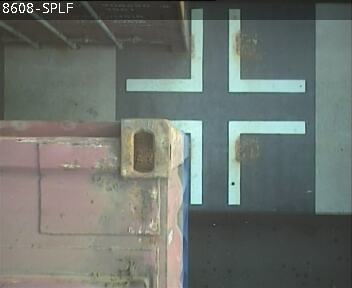groundmarker_1: (126, 8, 305, 92), (170, 120, 304, 204)
